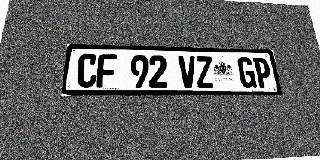2: (149, 55, 167, 88)
9: (130, 55, 149, 88)
C: (76, 53, 98, 88)
F: (96, 54, 117, 88)
G: (237, 57, 257, 88)
P: (253, 57, 273, 88)
V: (178, 56, 197, 88)
Z: (195, 56, 214, 88)
